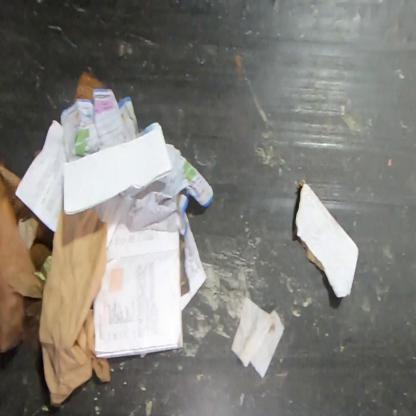cardboard: (294, 180, 360, 300), (0, 161, 27, 221), (74, 69, 108, 103)
